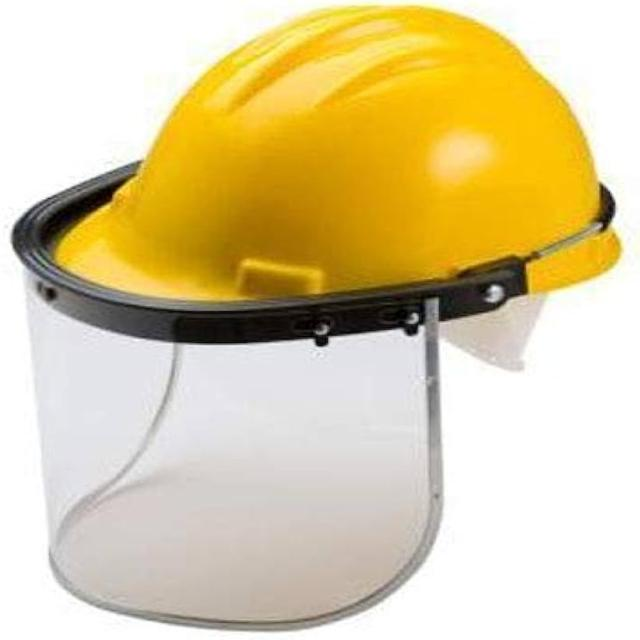helmet: (0, 1, 638, 353)
